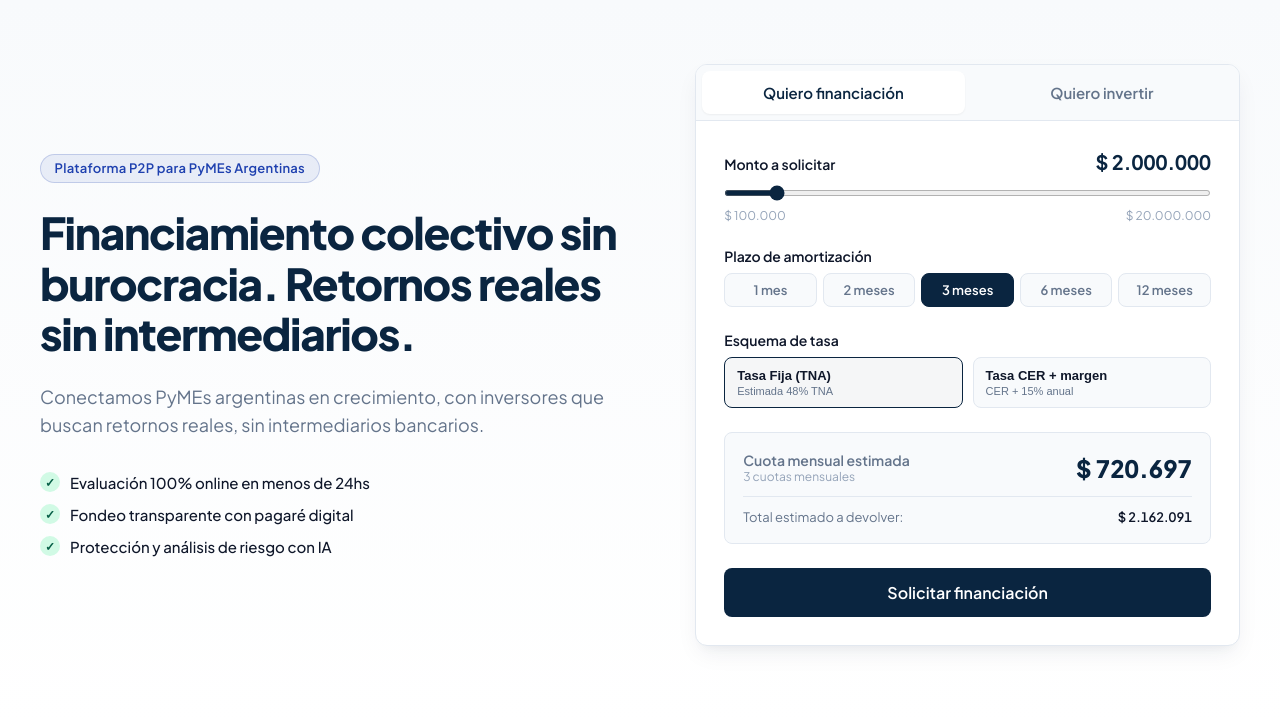
Test: HeroSimulator Component › switches between borrower and investor modes using interactive toggle
Expected: the panel with test id "borrower-panel" is shown, [696,121,1239,645]
Toggle to investor mode
Click the tab "Quiero invertir" at (1102,92), box [971,71,1233,114]
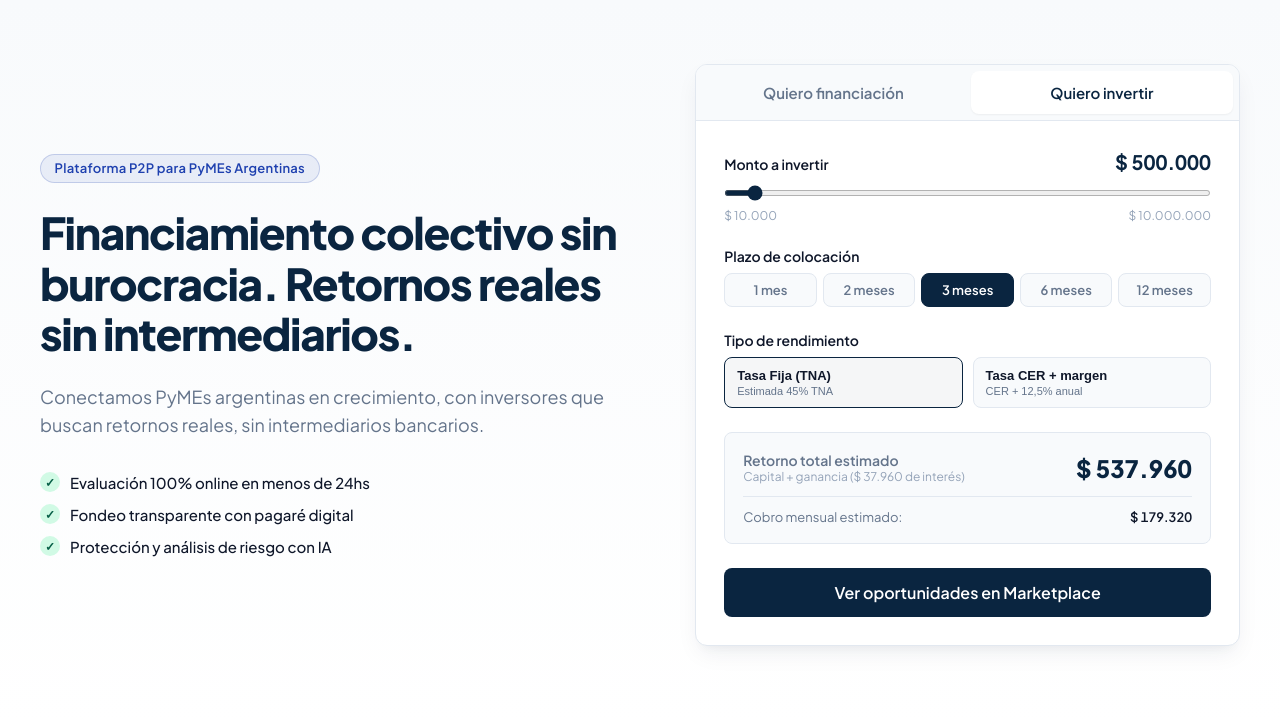
Now the panel with test id "investor-panel" is shown, box [696,121,1239,645]
Now the panel with test id "borrower-panel" is gone
Toggle back to borrower mode
Click the tab "Quiero financiación" at (833,92), box [702,71,965,114]
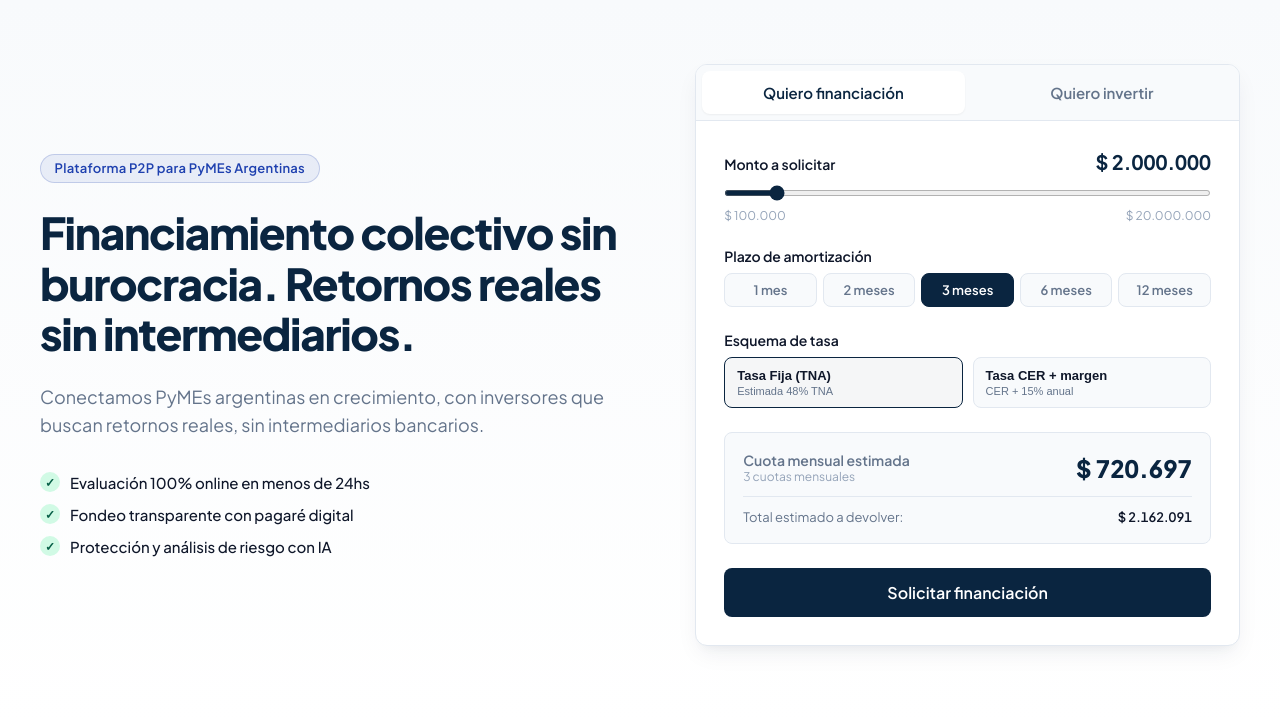
Now the panel with test id "borrower-panel" is shown, box [696,121,1239,645]
